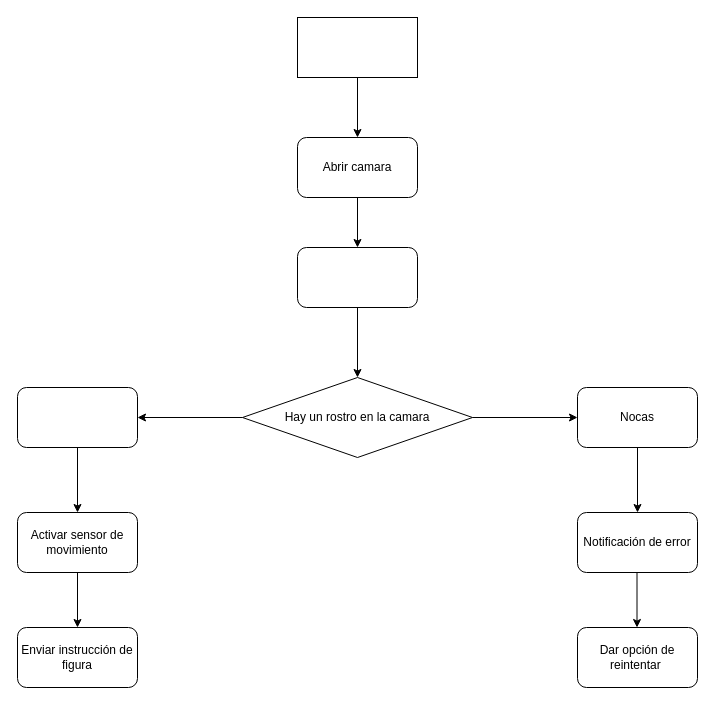
Image size: 715x705. Some labels were removed from this diagram. The shapes that lost their labels are listed below. From the top down, each one's centre as x and y in pixels, then its label:
At (x=357, y=47): "Inicio".
At (x=357, y=277): "Mostrar dibujo".
At (x=77, y=417): "Sisas".
